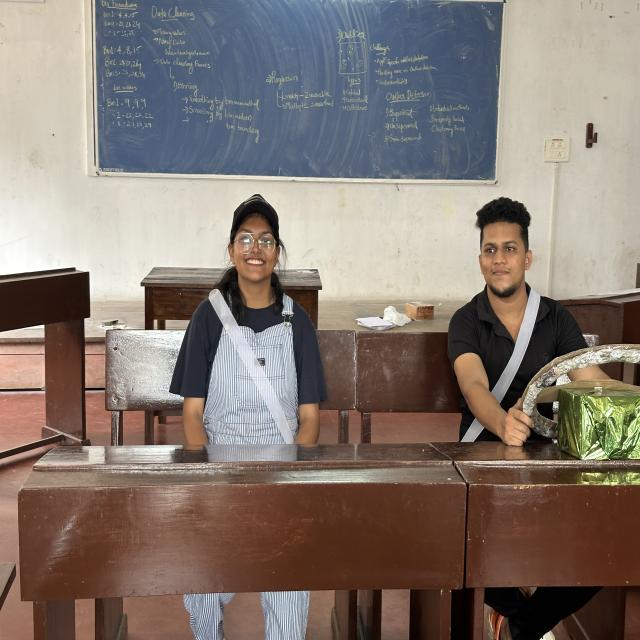seatbelt: (163, 289, 330, 452), (437, 278, 575, 447)
